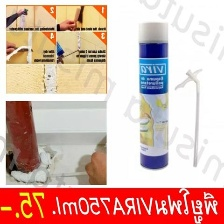aerosol_cans: (135, 19, 172, 171)
